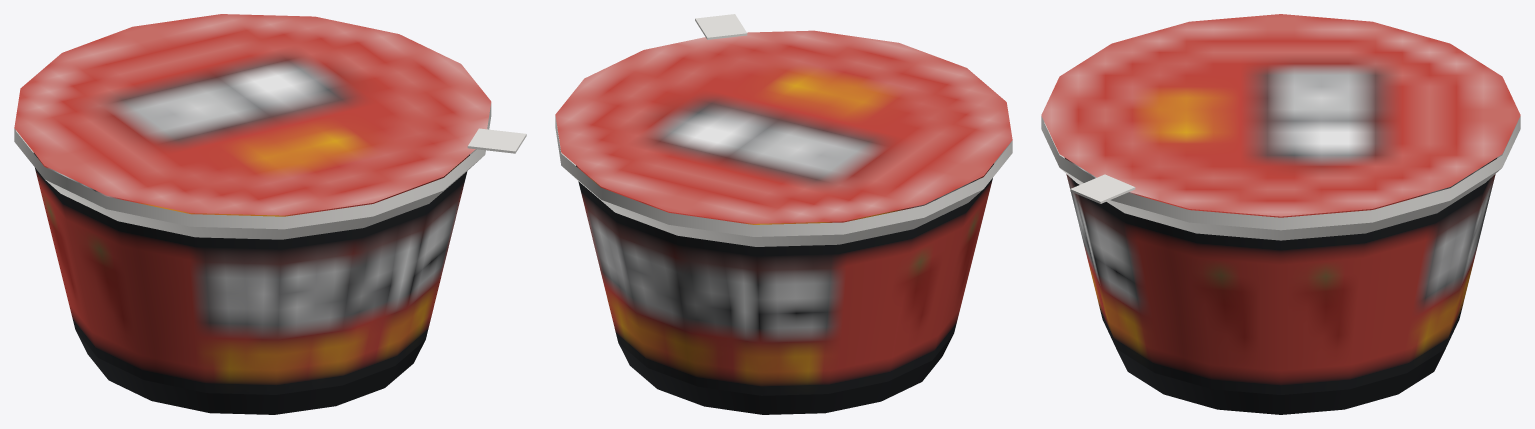
The model's file is SC_Prod_CupRamen_Big_Spicy.gltf.
3 renders of one model, left to right at view 1: azimuth 30°, elevation 25°; view 2: azimuth 150°, elevation 25°; view 3: azimuth 270°, elevation 25°, orthographic. The views are drawn at different scales.
Visible parts, largest first — view 1: SC_Prod_CupRamen_Big_Spicy; view 2: SC_Prod_CupRamen_Big_Spicy; view 3: SC_Prod_CupRamen_Big_Spicy.
Boxes of the visible parts, bbox=[...] form: SC_Prod_CupRamen_Big_Spicy: bbox=[14, 14, 526, 414]; SC_Prod_CupRamen_Big_Spicy: bbox=[555, 14, 1012, 414]; SC_Prod_CupRamen_Big_Spicy: bbox=[1041, 14, 1520, 414].
Size of the model in its own units: 0.156 by 0.0833 by 0.156.
2 materials, 2 textured.
